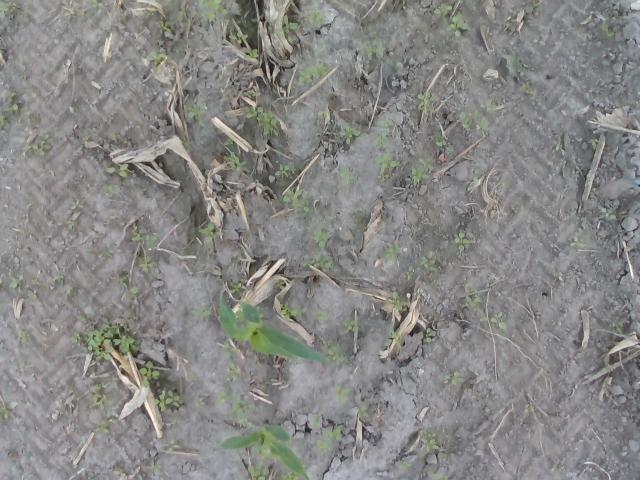Maize: (218, 287, 330, 366), (214, 423, 311, 480)
Weeds: (82, 321, 138, 361), (244, 106, 281, 136), (227, 396, 256, 428), (374, 152, 397, 182), (282, 189, 310, 213), (299, 63, 332, 83), (132, 223, 158, 248), (183, 102, 207, 128), (276, 14, 298, 42), (90, 382, 112, 410), (446, 12, 469, 38), (24, 134, 52, 155), (154, 389, 180, 411), (138, 361, 160, 387), (502, 55, 526, 78), (198, 223, 224, 244), (322, 340, 344, 364), (479, 312, 506, 330), (224, 152, 248, 172), (280, 302, 306, 320), (418, 430, 439, 452), (451, 232, 474, 252), (416, 92, 436, 114), (246, 462, 270, 480), (432, 3, 452, 24), (338, 166, 358, 186), (93, 417, 118, 433), (339, 125, 360, 144), (387, 291, 408, 310), (198, 0, 226, 14), (302, 255, 332, 268), (309, 229, 329, 248), (332, 384, 351, 404), (366, 39, 387, 57), (463, 295, 482, 314), (2, 92, 18, 114), (308, 7, 326, 26), (146, 50, 168, 65), (274, 163, 296, 178), (383, 244, 401, 262), (105, 164, 128, 178), (444, 371, 466, 385), (0, 1, 17, 19), (372, 131, 390, 148), (410, 166, 429, 182), (218, 342, 236, 358), (387, 329, 402, 348), (327, 424, 344, 440), (422, 255, 438, 271), (138, 256, 154, 272), (600, 21, 615, 38), (192, 307, 210, 321), (228, 32, 248, 44), (228, 362, 240, 382), (342, 319, 359, 333), (162, 439, 179, 453), (197, 8, 216, 20), (9, 274, 24, 289), (432, 131, 446, 147), (122, 286, 138, 300), (598, 208, 618, 219), (242, 47, 260, 59), (460, 111, 472, 129), (317, 438, 332, 452), (525, 1, 541, 14), (427, 470, 447, 480), (110, 276, 128, 287), (158, 20, 172, 34), (216, 391, 230, 405), (570, 236, 586, 248), (479, 100, 496, 111), (476, 116, 489, 130), (92, 0, 104, 15), (419, 158, 434, 170), (354, 406, 369, 418), (281, 471, 301, 480), (256, 305, 265, 324), (168, 252, 185, 262), (312, 310, 329, 320), (228, 282, 242, 294), (612, 320, 624, 334), (522, 83, 536, 95), (378, 118, 394, 127), (469, 168, 481, 180), (243, 89, 259, 98), (14, 59, 26, 71), (556, 142, 566, 156), (425, 328, 434, 342), (313, 412, 322, 426), (70, 332, 81, 343), (234, 311, 245, 322), (589, 138, 599, 150), (464, 279, 473, 292), (0, 406, 8, 420), (406, 266, 414, 280), (64, 9, 75, 19), (274, 279, 284, 290), (21, 331, 30, 343), (149, 463, 161, 472), (192, 398, 205, 406), (398, 462, 411, 470), (26, 88, 36, 98), (54, 274, 64, 284), (27, 289, 38, 298), (70, 200, 80, 209), (524, 403, 534, 412), (114, 466, 125, 474), (223, 138, 234, 146), (635, 91, 640, 108), (82, 136, 89, 148), (571, 204, 578, 216), (101, 251, 112, 258), (176, 11, 184, 20), (317, 40, 326, 48), (110, 133, 118, 142), (318, 110, 327, 118), (182, 140, 191, 148), (69, 105, 78, 113), (85, 248, 96, 254), (472, 110, 480, 118), (66, 286, 74, 294), (76, 314, 85, 321), (102, 186, 112, 192), (0, 114, 5, 126), (68, 221, 75, 229), (401, 0, 407, 9), (446, 146, 454, 152), (89, 477, 99, 480), (166, 0, 172, 3)
